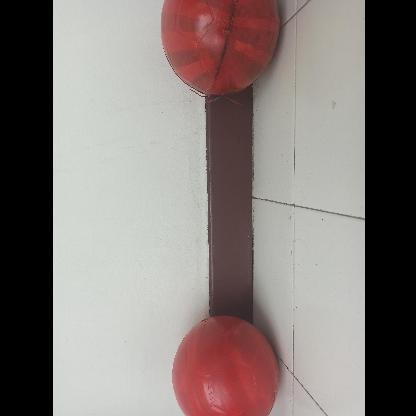red_ball: (164, 317, 284, 415), (155, 0, 278, 89)
